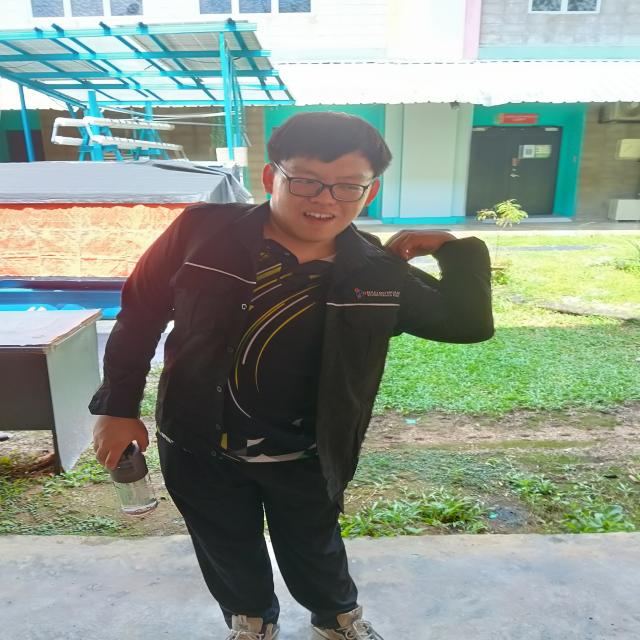person_with_labcoat: (89, 112, 494, 640)
